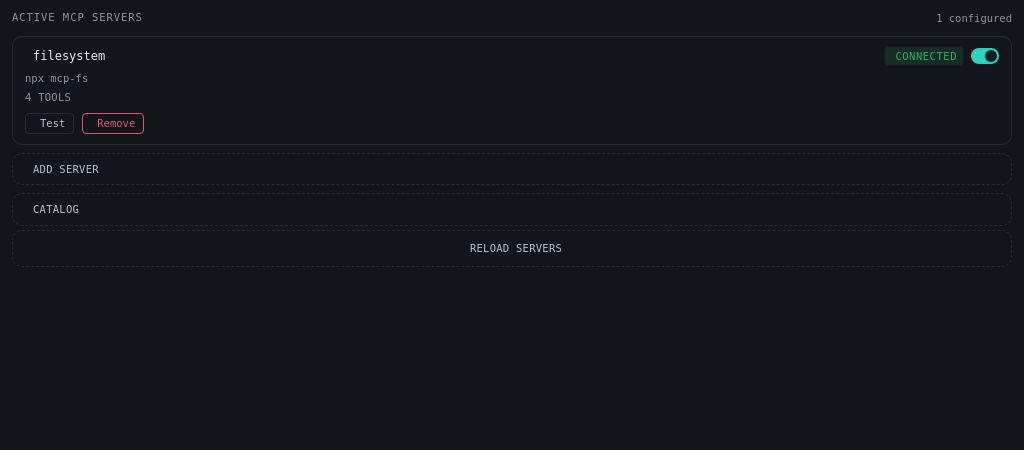
Scenario: A8: MCP panel Catalog disclosure + Login button › TG-2 (AU-49): a successful catalog install notice states the effect-latency copy — the panel refetch showing the server active must not imply the LIVE chat pick
Click the button "Catalog" at (56,209), box [13,194,1011,225]
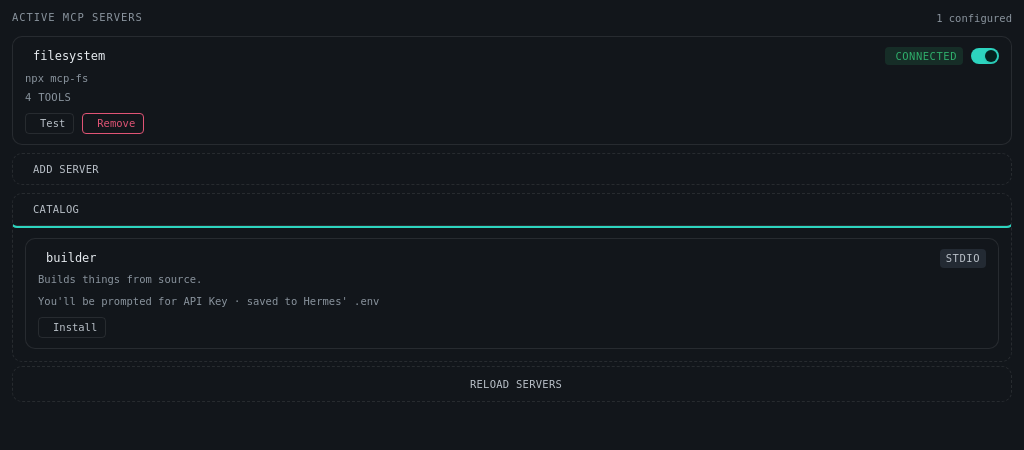
Check: the text "builder" is shown, box [46,250,97,266]
Click the button "Install" at (72,327), box [38,317,106,338]
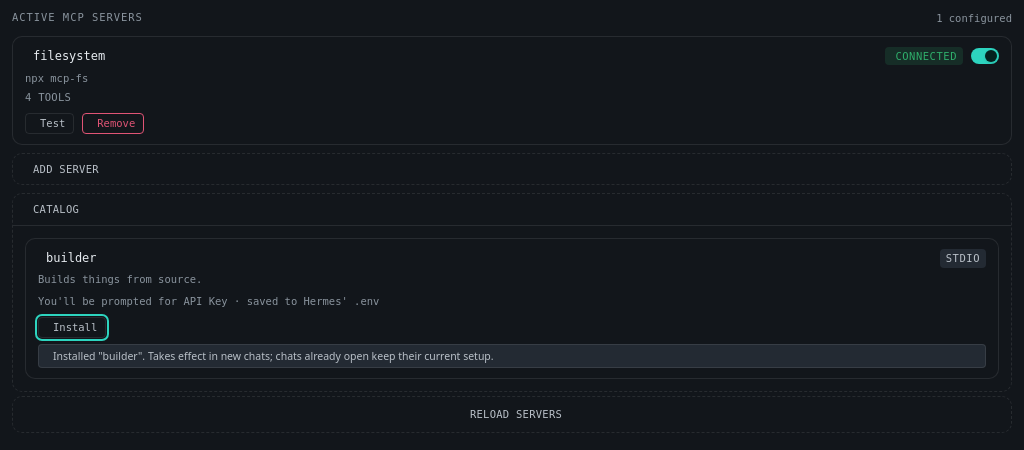
Check: the text "Installed \"builder\". Takes effect in new chats; chats already open keep their current setup." is shown 2 times
